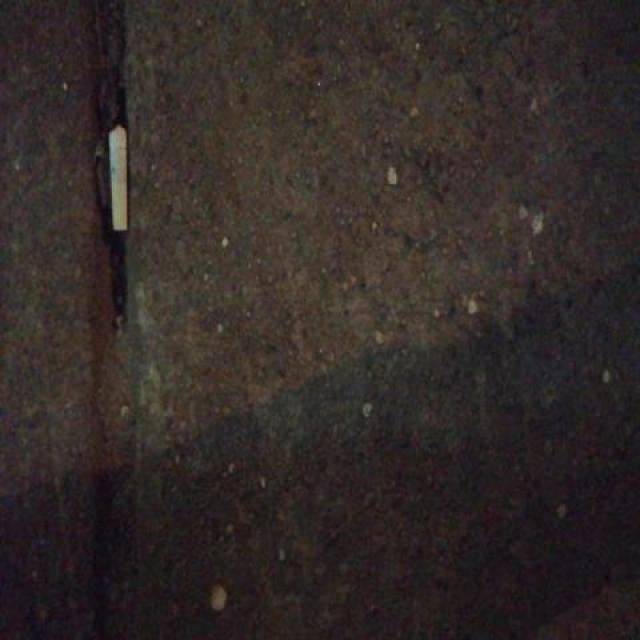non-organic waste: (104, 117, 132, 232)
